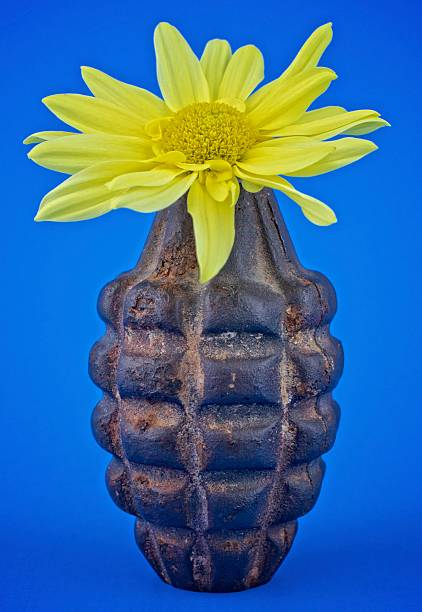e1: (78, 181, 354, 588)
